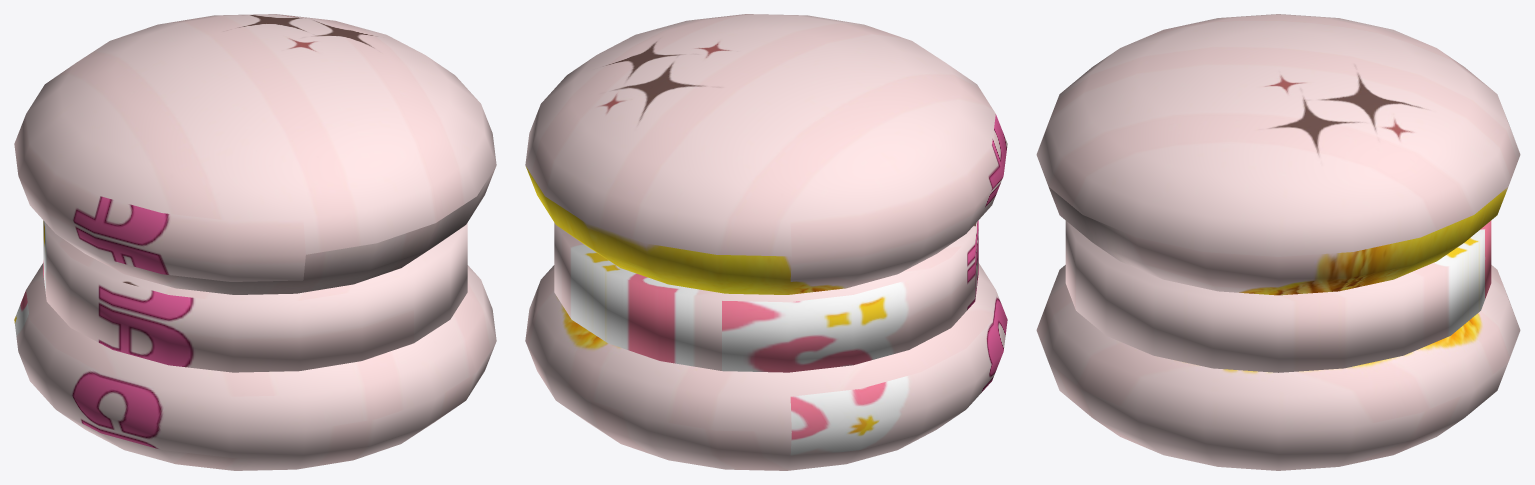
The model's file is prop_banoffee_macaron.glb.
3 renders of one model, left to right at view 1: azimuth 30°, elevation 25°; view 2: azimuth 150°, elevation 25°; view 3: azimuth 270°, elevation 25°, orthographic.
Visible parts, largest first — view 1: prop_banoffee_macaron; view 2: prop_banoffee_macaron; view 3: prop_banoffee_macaron.
Part boxes in pixels (x1=…): prop_banoffee_macaron: x1=14, y1=14, x2=496, y2=470; prop_banoffee_macaron: x1=525, y1=14, x2=1007, y2=470; prop_banoffee_macaron: x1=1036, y1=14, x2=1520, y2=470.
Bounding box in the file's own units: 0.05 × 0.0425 × 0.05.
Materials: 1 (1 with a texture image).
